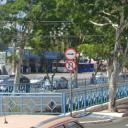NoVirarU: (65, 60, 77, 71)
